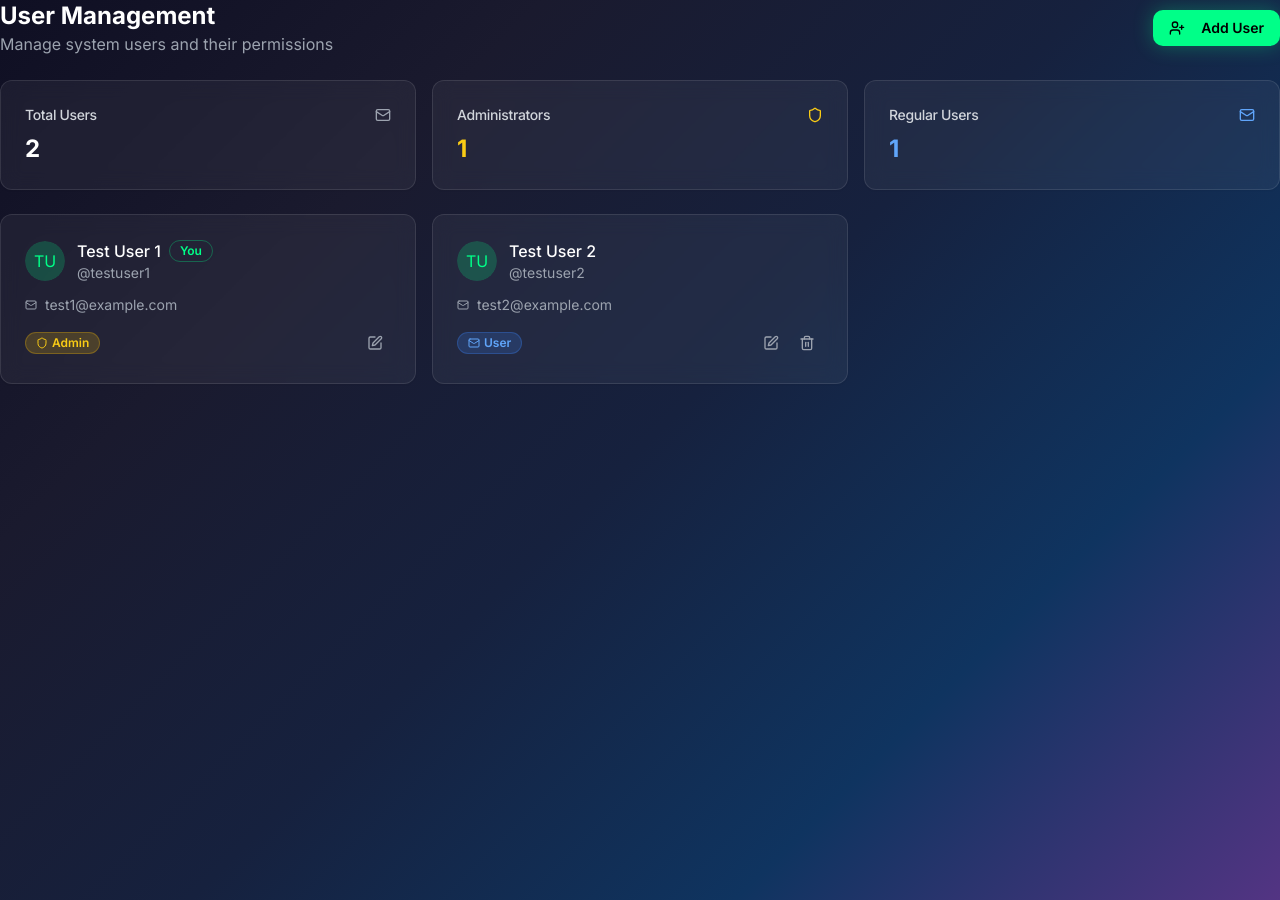
Test: UserManagement › handles edit user
The image size is (1280, 900).
Check: the text "Test User 1" is shown, box left=77, top=241, right=161, bottom=261
Click the button without text below "test1@example.com" at (375, 343), box left=359, top=327, right=391, bottom=359
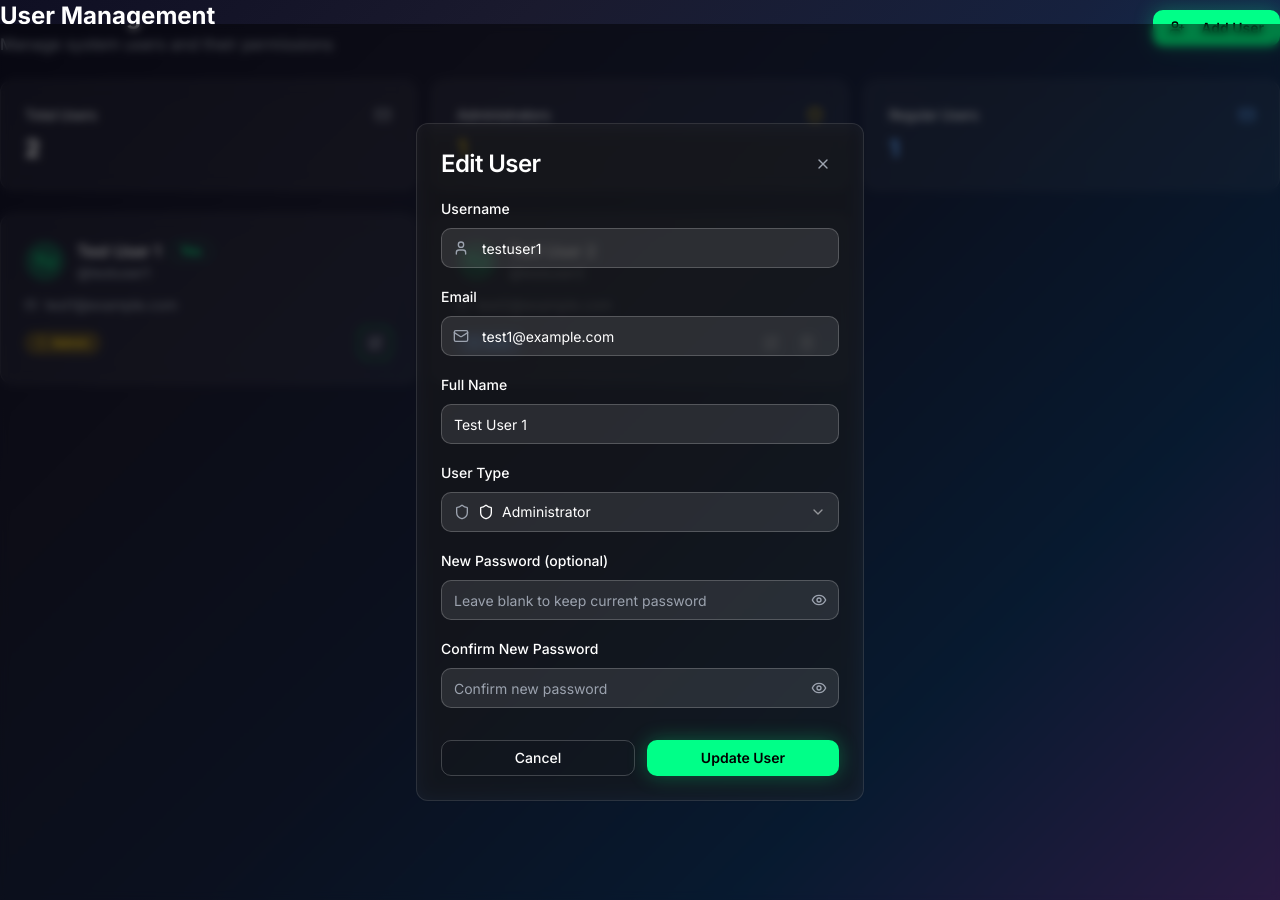
Check: the heading "Edit User" is shown, box left=441, top=152, right=540, bottom=176
